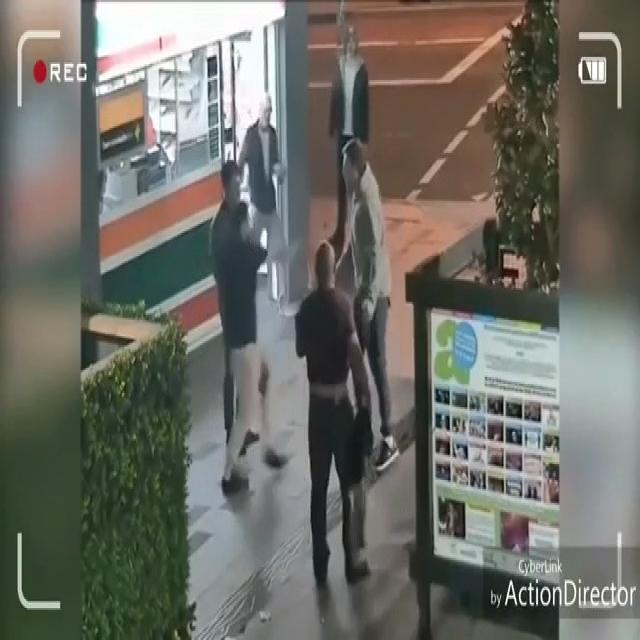fight: (216, 133, 383, 498)
